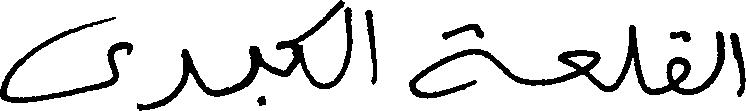X: (0, 12, 129, 107), (410, 19, 499, 103), (279, 0, 341, 93), (139, 44, 190, 110), (558, 45, 599, 93), (666, 26, 689, 99), (730, 28, 745, 101), (364, 5, 377, 89), (249, 41, 262, 110), (711, 26, 724, 88), (627, 20, 638, 87), (346, 2, 352, 74)
